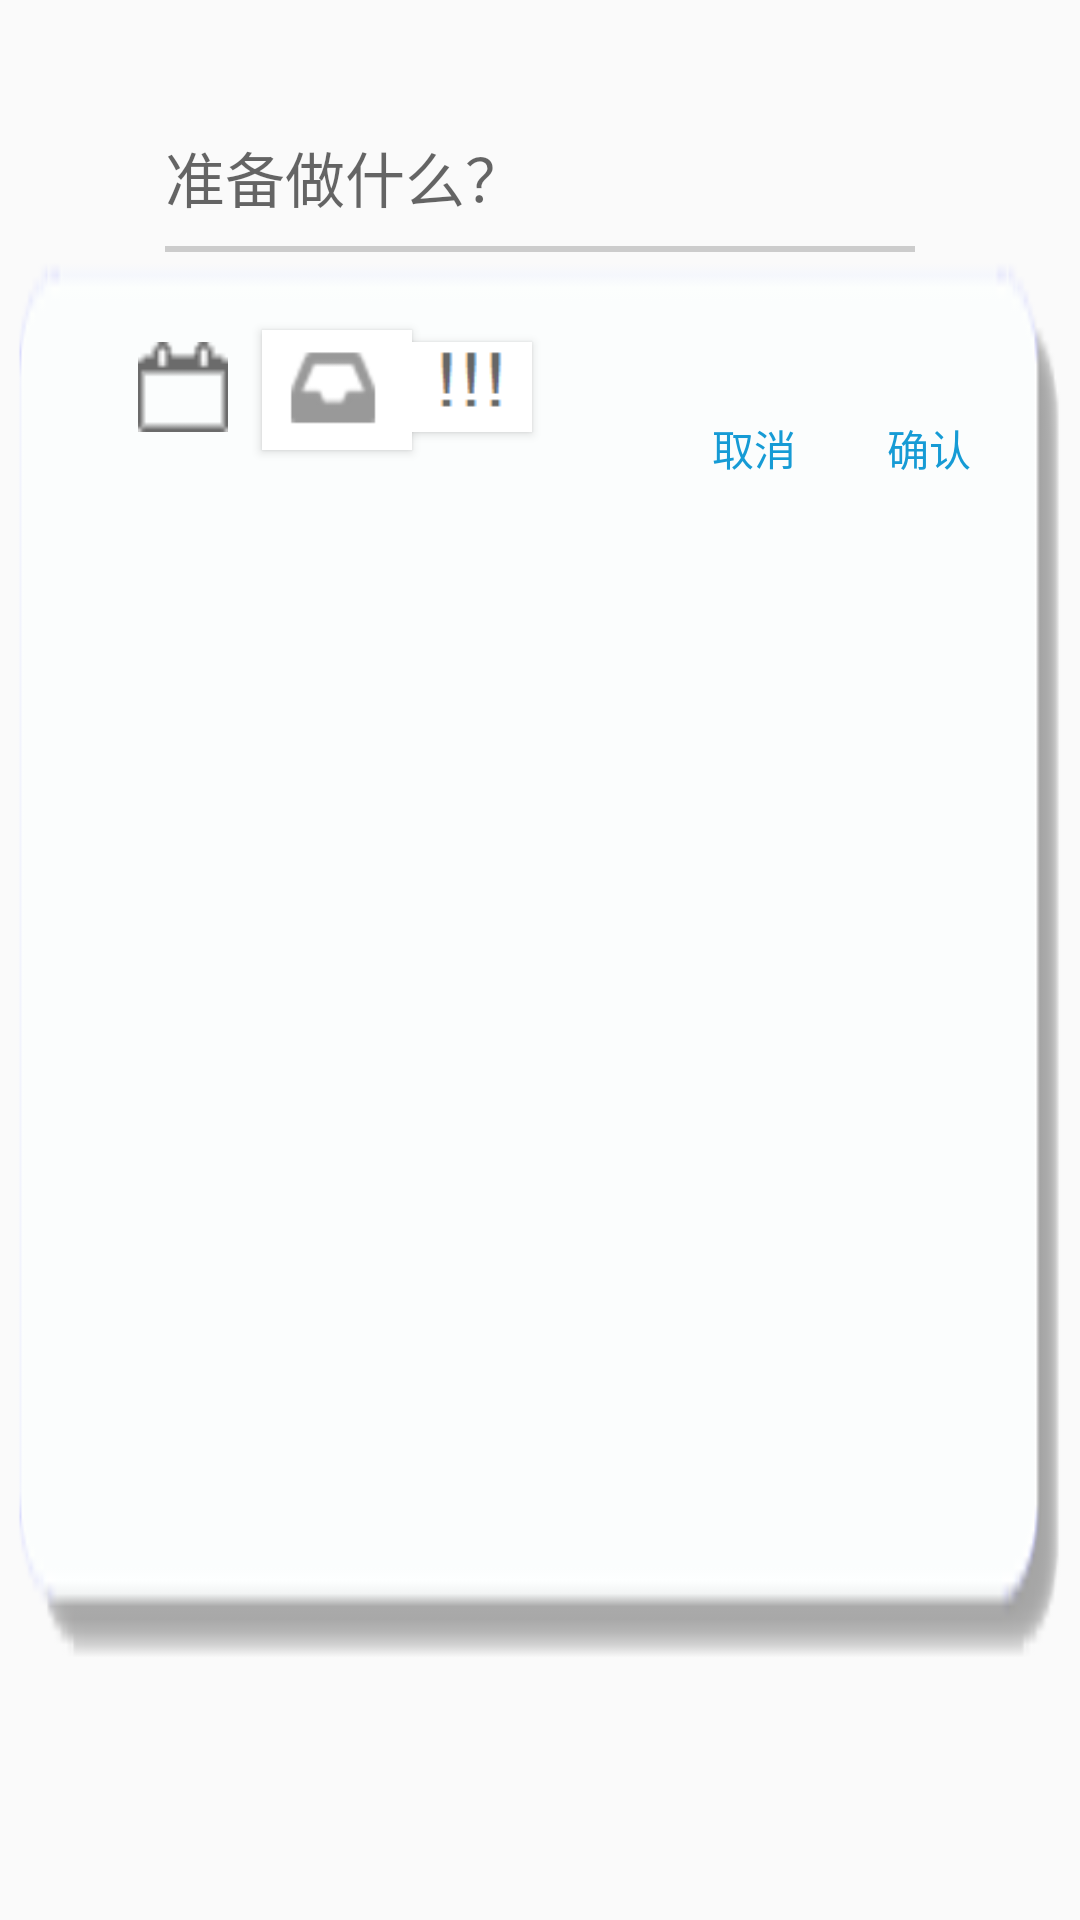

Icon bounding boxes for this 1080 x 1920 phone screenshot, format (x1, y1, x2, y2):
calendar: (138, 342, 228, 432)
list: (291, 352, 375, 423)
